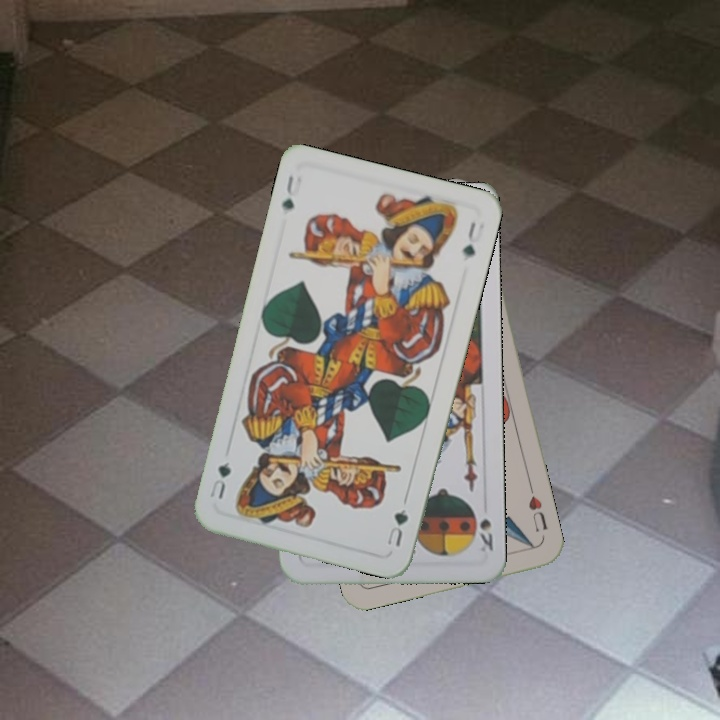GU: (383, 505, 411, 549), (277, 170, 305, 213)
HU: (524, 492, 550, 535)
SK: (470, 501, 495, 556)
